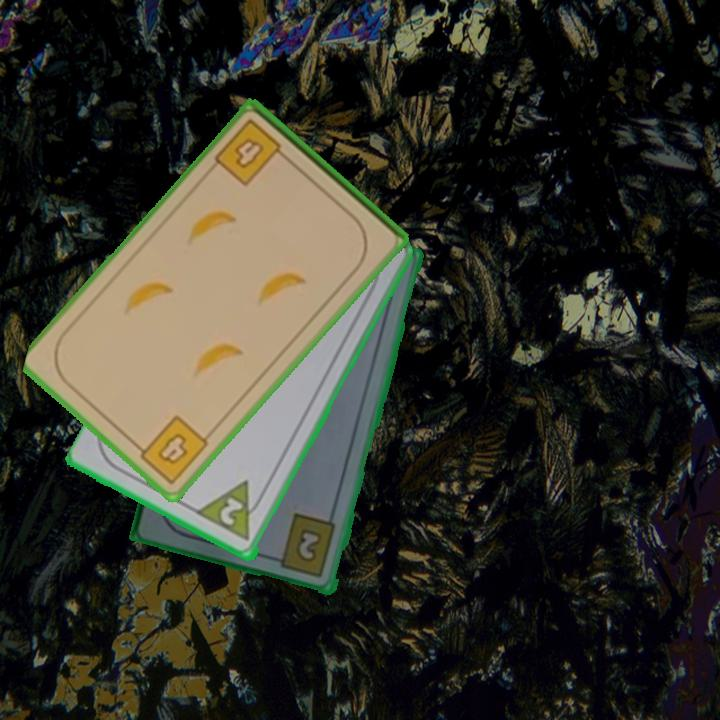2b: (269, 511, 339, 581)
2p: (216, 494, 247, 529)
4b: (130, 412, 212, 488), (211, 115, 292, 190)
